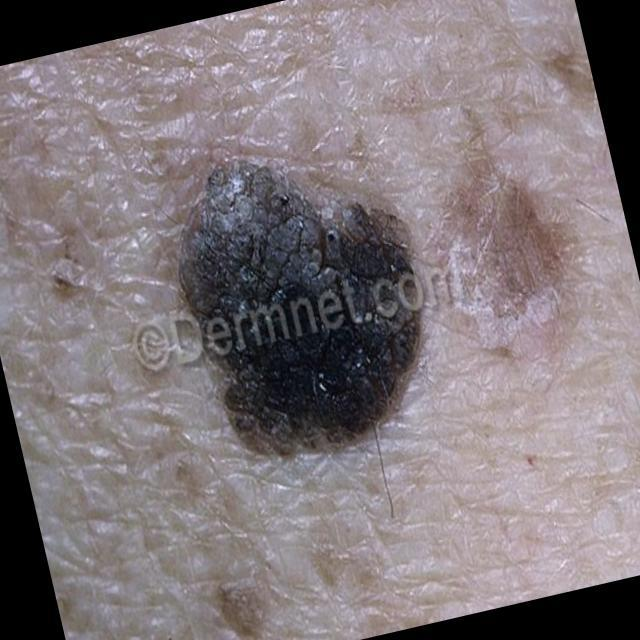Eczema: (111, 152, 502, 468)
